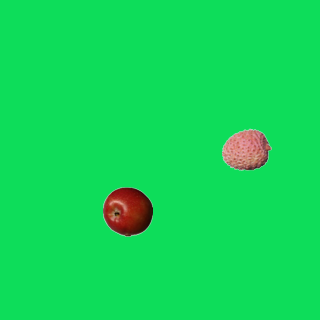Apple Braeburn: (102, 186, 152, 236)
Lychee: (221, 124, 271, 174)
